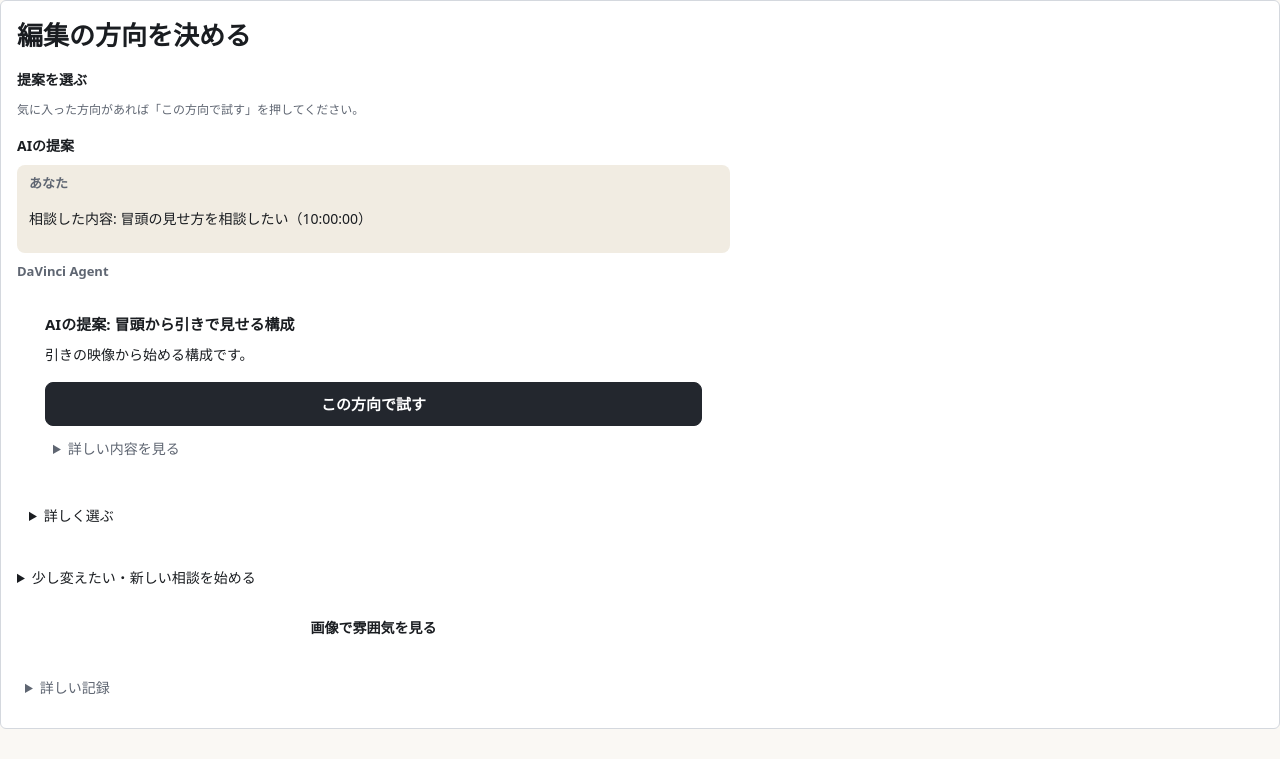
it: 工程4 拒否と型付きエラー › refused_reason は正直な1行になる
Expected: the element with test id "consultation-proposal" is shown, [29,297,718,489]
Click the button with test id "generation-section-toggle". click: x=373, y=627
box: [17,605,730,649]
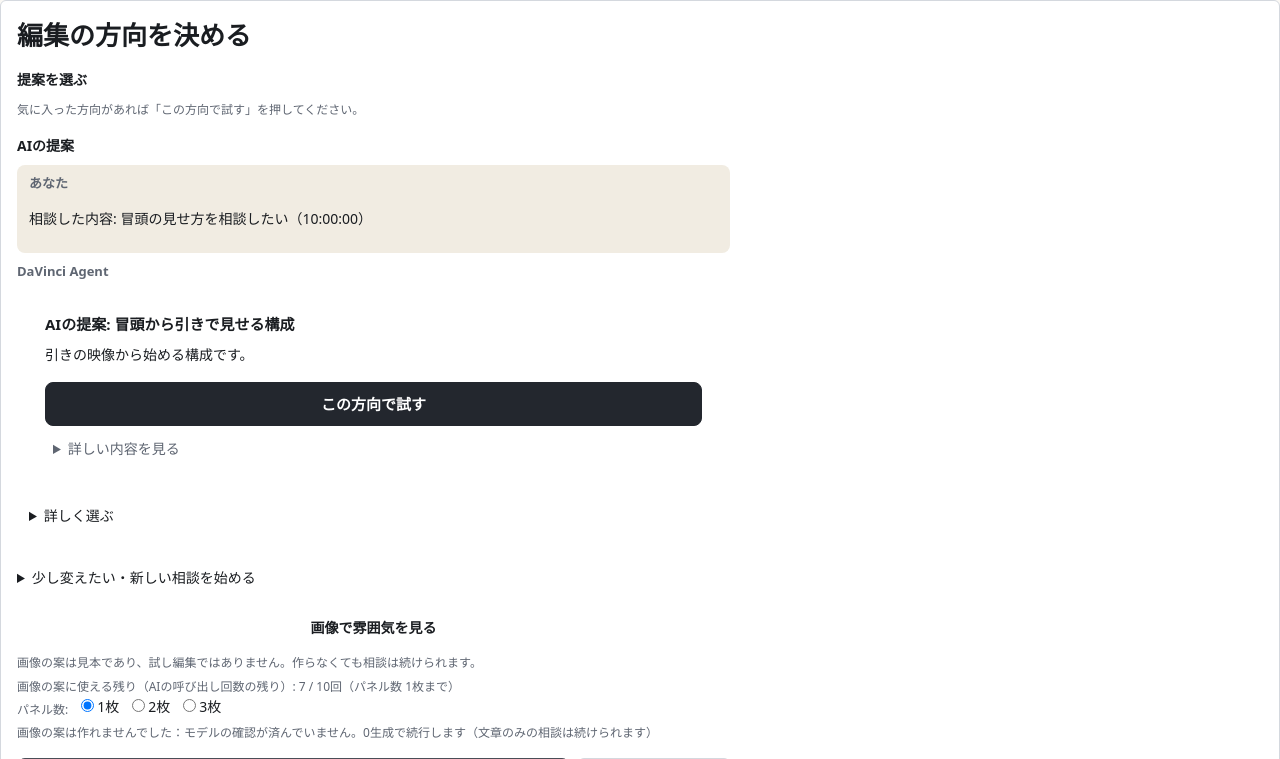
Now the text with test id "consultation-generation-refused" shows "モデルの確認が済んでいません", box [184,724,351,741]
Now the text with test id "consultation-generation-refused" shows "0生成で続行", box [351,724,658,741]
